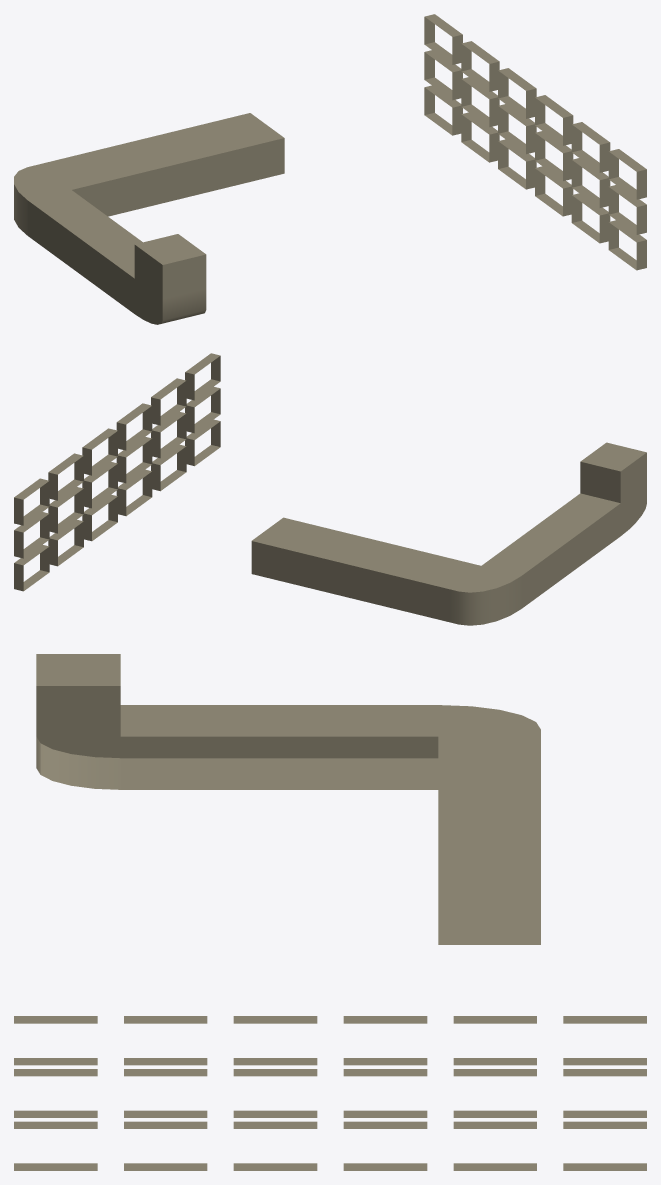
The model's file is ExtractorMarco.fbx.
3 views of the same model, one above another, from view 1: azimuth 30°, elevation 25°; view 2: azimuth 150°, elevation 25°; view 3: azimuth 270°, elevation 25° (orthographic). The views are drawn at different scales.
Parts seen in each view (by area): view 1: ExtractorMarco; view 2: ExtractorMarco; view 3: ExtractorMarco.
Part boxes in pixels (left/top/right/bottom): ExtractorMarco: left=14, top=14, right=646, bottom=324; ExtractorMarco: left=14, top=353, right=646, bottom=625; ExtractorMarco: left=14, top=654, right=646, bottom=1170.
Size of the model in its own units: 809 by 184 by 623.
